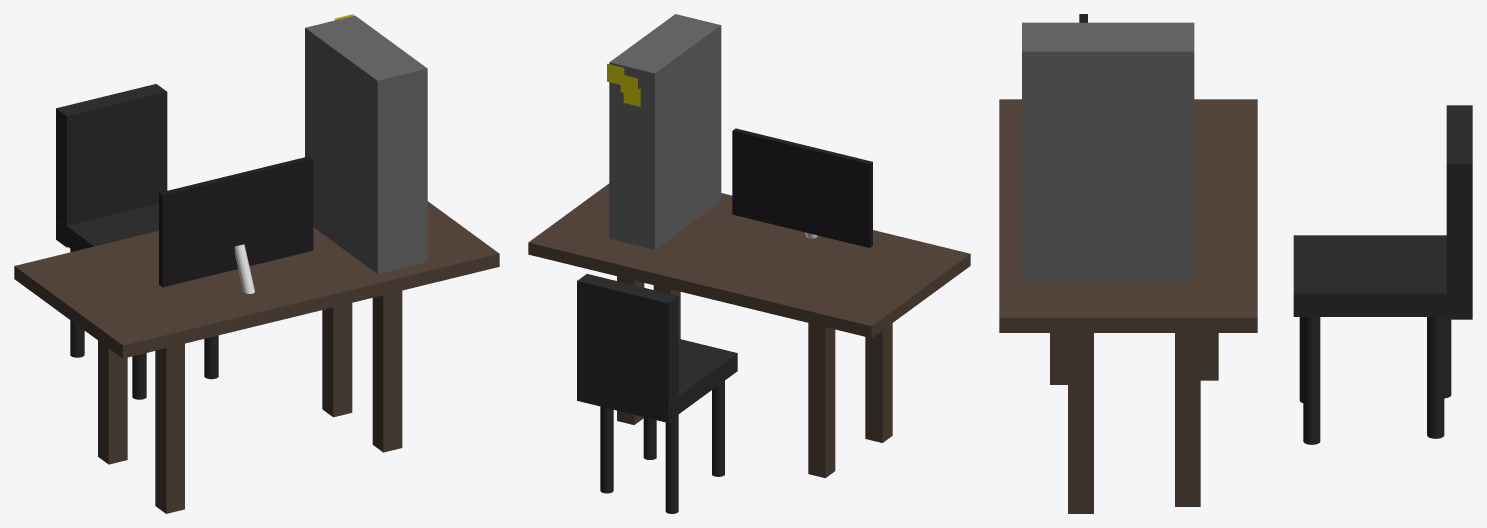
The model's file is table.fbx.
3 renders of one model, left to right at view 1: azimuth 30°, elevation 25°; view 2: azimuth 150°, elevation 25°; view 3: azimuth 270°, elevation 25°, orthographic. The views are drawn at different scales.
Parts seen in each view (by area): view 1: Cube, Cube.006, Cube.005, Cube.008, Cube.001, Cube.003, Cube.004, Cube.002, Cube.007, Cylinder.001, Cylinder.003, Cylinder; view 2: Cube, Cube.006, Cube.008, Cube.005, Cube.002, Cube.001, Cube.007, Cylinder.002, Cylinder.004, Cylinder.001, Cylinder.003; view 3: Cube.006, Cube, Cube.007, Cube.008, Cube.003, Cube.004, Cylinder.003, Cylinder.004, Cube.001, Cube.002, Cylinder.002.
Part boxes in pixels (bbox=[...]): Cube: bbox=[14, 201, 499, 358]; Cube.006: bbox=[305, 15, 427, 273]; Cube.005: bbox=[159, 156, 313, 287]; Cube.008: bbox=[56, 84, 167, 247]; Cube.001: bbox=[155, 343, 184, 513]; Cube.003: bbox=[372, 290, 402, 452]; Cube.004: bbox=[322, 303, 352, 417]; Cube.002: bbox=[98, 340, 127, 464]; Cube.007: bbox=[58, 203, 158, 251]; Cylinder.001: bbox=[132, 353, 146, 399]; Cylinder.003: bbox=[204, 335, 218, 379]; Cylinder: bbox=[234, 244, 254, 293]; Cube: bbox=[528, 183, 970, 338]; Cube.006: bbox=[609, 14, 721, 249]; Cube.008: bbox=[577, 274, 678, 422]; Cube.005: bbox=[732, 128, 872, 247]; Cube.002: bbox=[808, 323, 835, 478]; Cube.001: bbox=[865, 323, 892, 442]; Cube.007: bbox=[671, 339, 737, 419]; Cylinder.002: bbox=[665, 416, 678, 513]; Cylinder.004: bbox=[600, 406, 613, 493]; Cylinder.001: bbox=[712, 381, 724, 476]; Cylinder.003: bbox=[643, 417, 656, 459]; Cube.006: bbox=[1022, 22, 1194, 281]; Cube: bbox=[999, 99, 1257, 332]; Cube.007: bbox=[1293, 235, 1446, 316]; Cube.008: bbox=[1446, 105, 1472, 319]; Cube.003: bbox=[1068, 333, 1093, 513]; Cube.004: bbox=[1175, 333, 1200, 506]; Cylinder.003: bbox=[1303, 317, 1320, 444]; Cylinder.004: bbox=[1427, 317, 1444, 438]; Cube.001: bbox=[1050, 333, 1067, 384]; Cube.002: bbox=[1200, 333, 1218, 380]; Cylinder.002: bbox=[1444, 317, 1451, 398].
Size of the model in its own units: 600 by 599 by 550.
